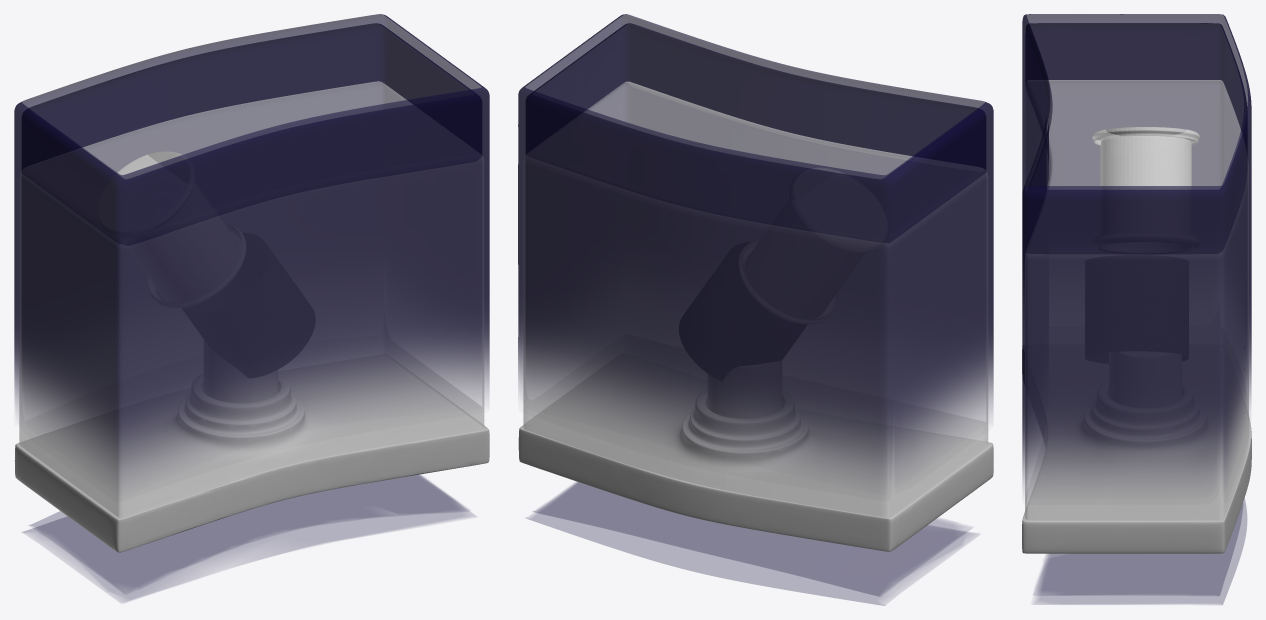
The model's file is perfume.glb.
3 renders of one model, left to right at view 1: azimuth 30°, elevation 25°; view 2: azimuth 150°, elevation 25°; view 3: azimuth 270°, elevation 25°, orthographic. The views are drawn at different scales.
Visible parts, largest first — view 1: Out_Material.001_0, Liquid_Material.004_0, Top_Metal032_2K_0; view 2: Out_Material.001_0, Liquid_Material.004_0, Top_Metal032_2K_0; view 3: Out_Material.001_0, Liquid_Material.004_0, Top_Metal032_2K_0.
Part boxes in pixels (box(x1,y1,x2,y2)): Out_Material.001_0: box(14, 14, 489, 602); Liquid_Material.004_0: box(19, 81, 484, 517); Top_Metal032_2K_0: box(14, 151, 489, 552); Out_Material.001_0: box(518, 14, 993, 605); Liquid_Material.004_0: box(523, 81, 988, 516); Top_Metal032_2K_0: box(518, 168, 993, 551); Out_Material.001_0: box(1022, 14, 1251, 604); Liquid_Material.004_0: box(1025, 80, 1248, 519); Top_Metal032_2K_0: box(1022, 127, 1251, 553).
Size of the model in its own units: 42701 by 46897 by 23262.
Materials: 5 (3 with a texture image).
